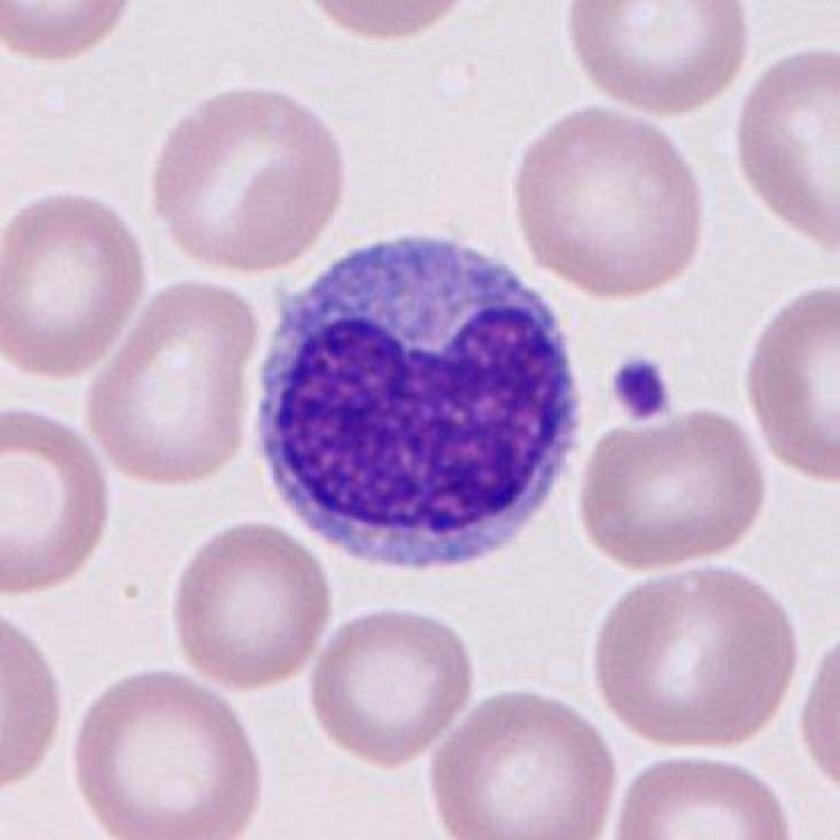monocyte: (240, 210, 602, 593)
